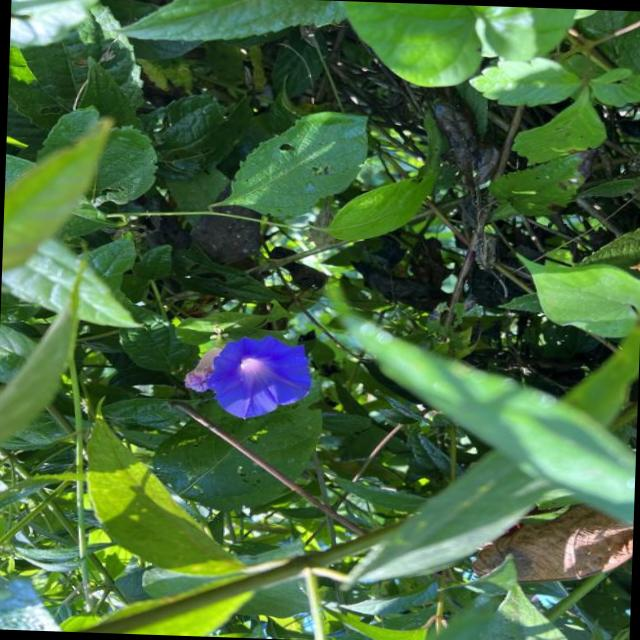ipomoea: (200, 329, 318, 423)
